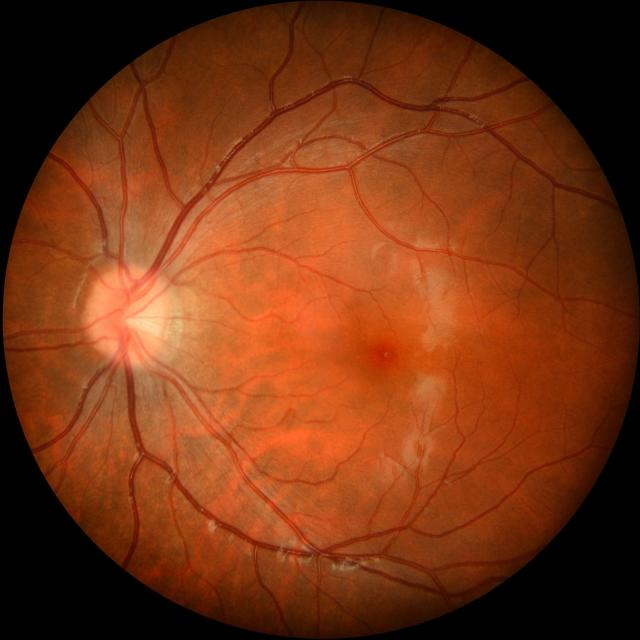OC: (117, 296, 155, 335)
OD: (85, 264, 169, 362)
